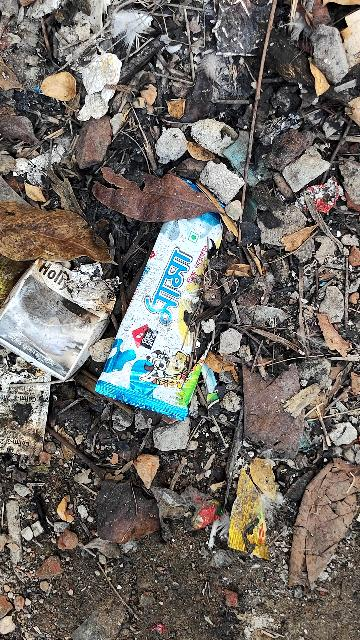packet: (85, 198, 254, 429)
